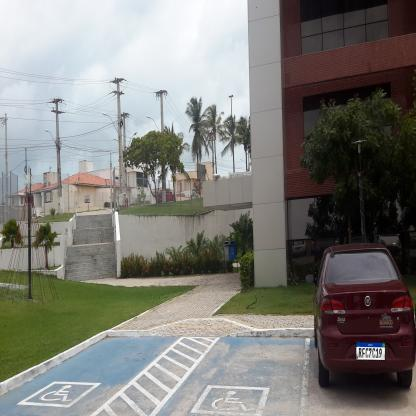PlacaM: (356, 341, 386, 361)
